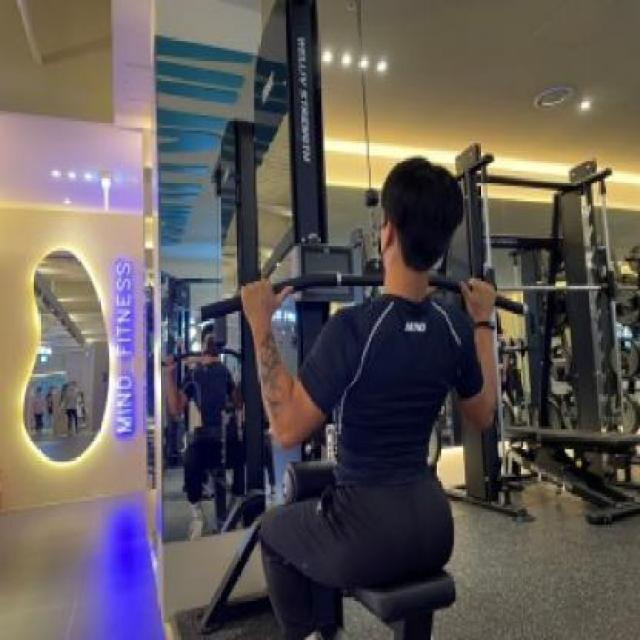Lat Pull Down: (151, 0, 531, 640)
